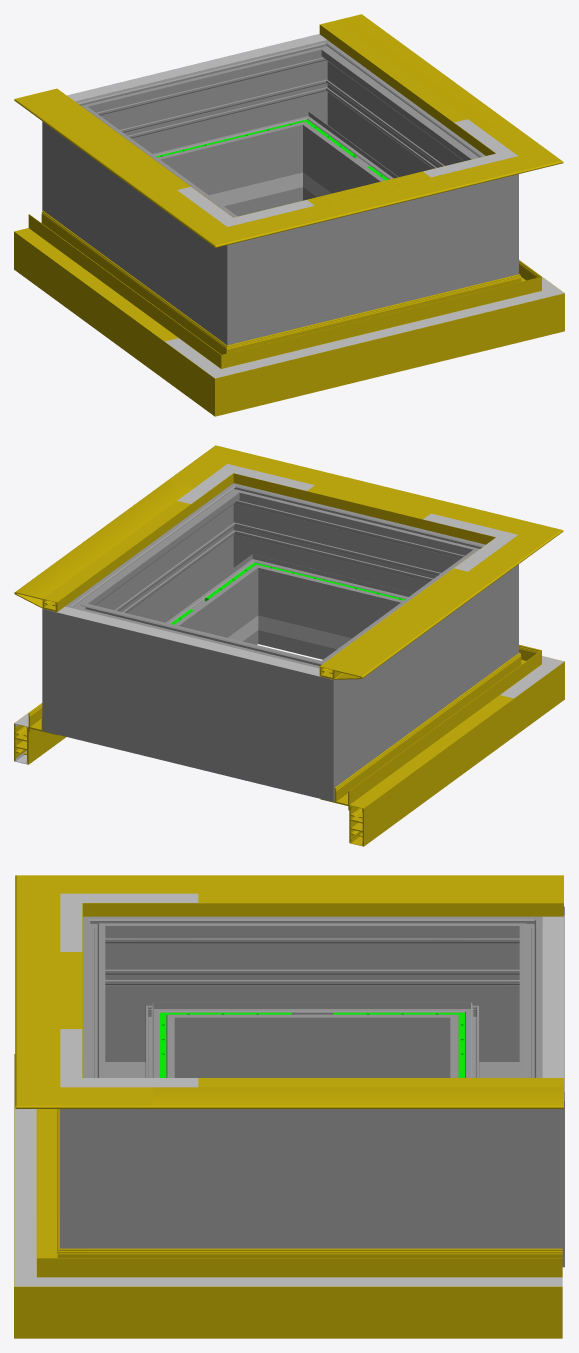
3 renders of one model, top to bottom at view 1: azimuth 30°, elevation 25°; view 2: azimuth 150°, elevation 25°; view 3: azimuth 270°, elevation 25°, orthographic. The views are drawn at different scales.
Visible parts, largest first — view 1: 3DGeom-276, 3DGeom-270, 3DGeom-298, 3DGeom-90, 3DGeom-284, 3DGeom-85, 3DGeom-290, 3DGeom-297, 3DGeom-86, 3DGeom-268, 3DGeom-278, 3DGeom-145 (+16 smaller); view 2: 3DGeom-278, 3DGeom-276, 3DGeom-298, 3DGeom-284, 3DGeom-85, 3DGeom-290, 3DGeom-297, 3DGeom-268, 3DGeom-270, 3DGeom-145, 3DGeom-147, 3DGeom-141 (+13 smaller); view 3: 3DGeom-268, 3DGeom-97, 3DGeom-297, 3DGeom-284, 3DGeom-290, 3DGeom-278, 3DGeom-270, 3DGeom-147, 3DGeom-92, 3DGeom-145, 3DGeom-149, 3DGeom-141 (+14 smaller).
Boxes of the visible parts, x1=… form: 3DGeom-276: x1=131, y1=52, x2=288, y2=216; 3DGeom-270: x1=177, y1=193, x2=314, y2=345; 3DGeom-298: x1=315, y1=195, x2=431, y2=323; 3DGeom-90: x1=286, y1=288, x2=477, y2=394; 3DGeom-284: x1=251, y1=35, x2=369, y2=203; 3DGeom-85: x1=14, y1=210, x2=193, y2=379; 3DGeom-290: x1=431, y1=132, x2=518, y2=295; 3DGeom-297: x1=311, y1=71, x2=453, y2=198; 3DGeom-86: x1=164, y1=321, x2=302, y2=416; 3DGeom-268: x1=92, y1=131, x2=204, y2=308; 3DGeom-278: x1=42, y1=80, x2=171, y2=246; 3DGeom-145: x1=319, y1=14, x2=512, y2=143; 3DGeom-278: x1=246, y1=636, x2=384, y2=801; 3DGeom-276: x1=129, y1=618, x2=262, y2=780; 3DGeom-298: x1=272, y1=501, x2=422, y2=659; 3DGeom-284: x1=42, y1=575, x2=145, y2=752; 3DGeom-85: x1=320, y1=677, x2=514, y2=846; 3DGeom-290: x1=191, y1=483, x2=306, y2=647; 3DGeom-297: x1=107, y1=514, x2=249, y2=642; 3DGeom-268: x1=356, y1=574, x2=468, y2=750; 3DGeom-270: x1=389, y1=529, x2=518, y2=689; 3DGeom-145: x1=14, y1=482, x2=207, y2=611; 3DGeom-147: x1=319, y1=557, x2=512, y2=679; 3DGeom-141: x1=278, y1=466, x2=475, y2=535; 3DGeom-268: x1=197, y1=916, x2=427, y2=1077; 3DGeom-97: x1=151, y1=1248, x2=562, y2=1338; 3DGeom-297: x1=197, y1=1109, x2=427, y2=1248; 3DGeom-284: x1=427, y1=1042, x2=564, y2=1267; 3DGeom-290: x1=60, y1=1042, x2=197, y2=1248; 3DGeom-278: x1=427, y1=906, x2=564, y2=1077; 3DGeom-270: x1=83, y1=916, x2=197, y2=1077; 3DGeom-147: x1=153, y1=875, x2=563, y2=916; 3DGeom-92: x1=14, y1=1209, x2=151, y2=1338; 3DGeom-145: x1=153, y1=1087, x2=563, y2=1108; 3DGeom-149: x1=15, y1=875, x2=152, y2=933; 3DGeom-141: x1=15, y1=933, x2=82, y2=1048.
Size of the model in its own units: 0.6096 by 0.2829 by 0.6096.
